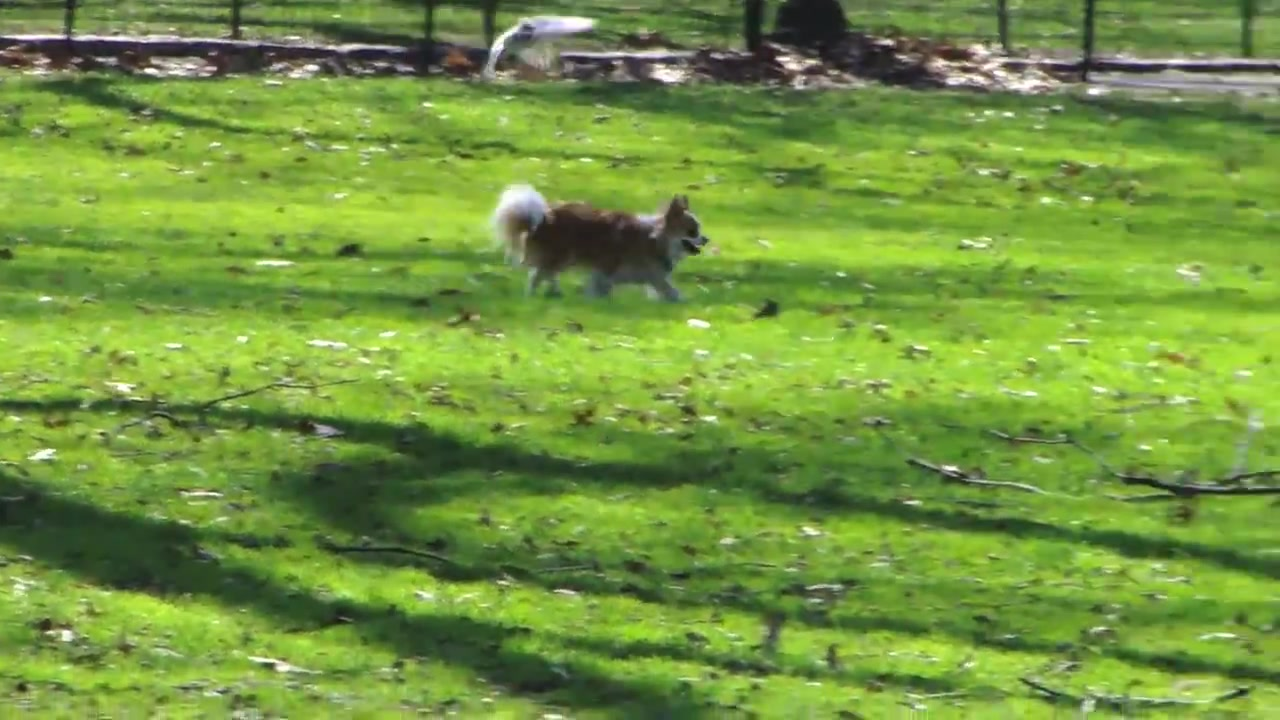dog: (489, 181, 710, 307)
